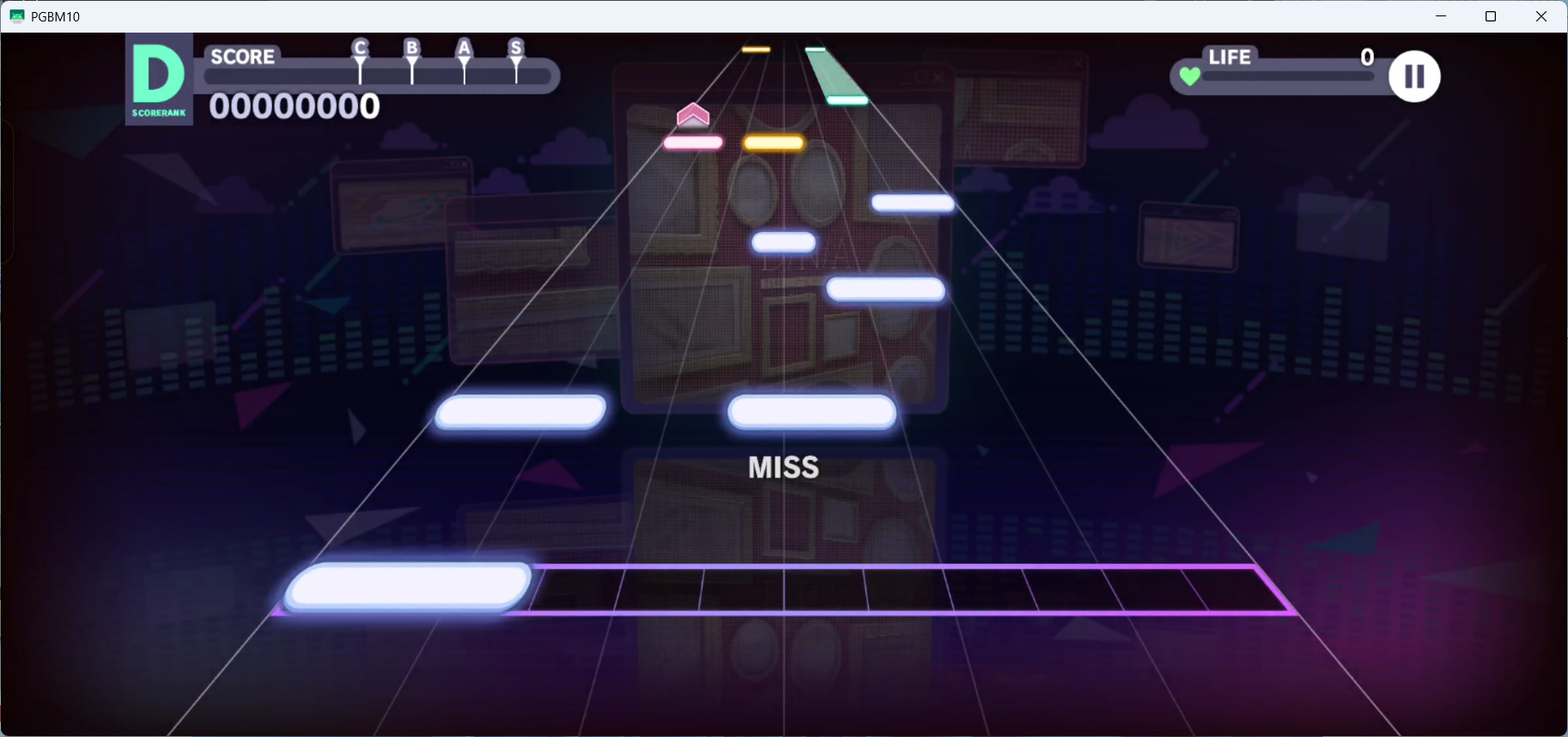flick: (677, 102, 709, 127)
hold: (806, 51, 866, 95)
tap: (282, 563, 533, 615), (434, 393, 607, 429), (727, 394, 899, 430), (826, 275, 946, 303), (872, 195, 957, 213), (751, 232, 817, 253), (744, 136, 803, 149), (664, 136, 722, 149), (826, 95, 868, 105), (741, 46, 769, 51), (805, 45, 825, 51)
